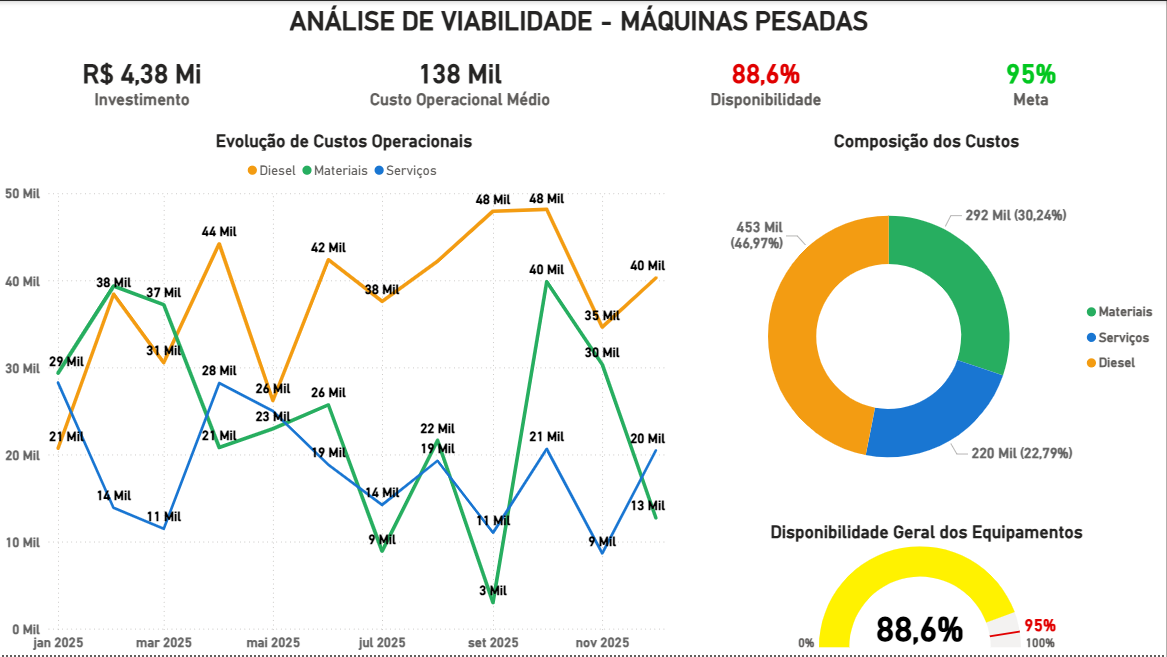

The page's visual inventory and layout, read from the dashboard file:
{"tool":"powerbi","page":{"name":"Visão Executiva","canvas":[1280,720],"ordinal":0},"visuals":[{"type":"cardVisual","fields":{"Data":["_Medidas.Investimento_Total"]},"box":[0,36.5,312.5,106.3],"z":0},{"type":"cardVisual","fields":{"Data":["_Medidas.Custo_Op_Medio"]},"box":[311,36.5,387.1,106.3],"z":1000},{"type":"cardVisual","fields":{"Data":["_Medidas.Disponibilidade_Geral"]},"box":[698.1,36.5,285.6,106.3],"z":2000},{"type":"areaChart","title":"Evolução de Custos Operacionais","fields":{"Y":["Sum(Custo Diesel.Custo Total/Mês)","Sum(Custo Manutenção.Custo Materiais)","Sum(Custo Manutenção.Custo Serviços)"],"Category":["Calendario.Data"]},"box":[0,142.8,755.2,577.5],"z":3000},{"type":"donutChart","title":"Composição dos Custos","fields":{"Y":["Sum(Custo Manutenção.Custo Materiais)","Sum(Custo Manutenção.Custo Serviços)","Sum(Custo Diesel.Custo Total/Mês)"]},"box":[755.2,142.8,525.1,429.9],"z":4000},{"type":"gauge","title":"Disponibilidade Geral dos Equipamentos","fields":{"Y":["_Medidas.Disponibilidade_Geral"],"TargetValue":["Sum(Disponibilidade.Meta)"]},"box":[755.2,572.7,525.1,147.5],"z":5000},{"type":"cardVisual","fields":{"Data":["Sum(Disponibilidade.Meta)"]},"box":[983.6,36.5,296.7,106.3],"z":6000},{"type":"textbox","box":[312.5,0,655.2,52.4],"z":7000}]}

Visuals, with their boxes in screenshot pixels (x1, y1, x2, y2), scaled from the page's 1280x720 canvas onto the 1167x657 screenshot:
cardVisual - _Medidas.Investimento_Total: x1=0, y1=33, x2=285, y2=130
cardVisual - _Medidas.Custo_Op_Medio: x1=284, y1=33, x2=636, y2=130
cardVisual - _Medidas.Disponibilidade_Geral: x1=636, y1=33, x2=897, y2=130
"Evolução de Custos Operacionais" areaChart: x1=0, y1=130, x2=689, y2=656
"Composição dos Custos" donutChart: x1=689, y1=130, x2=1166, y2=523
"Disponibilidade Geral dos Equipamentos" gauge: x1=689, y1=523, x2=1166, y2=656
cardVisual - Sum(Disponibilidade.Meta): x1=897, y1=33, x2=1166, y2=130
textbox: x1=285, y1=0, x2=882, y2=48
